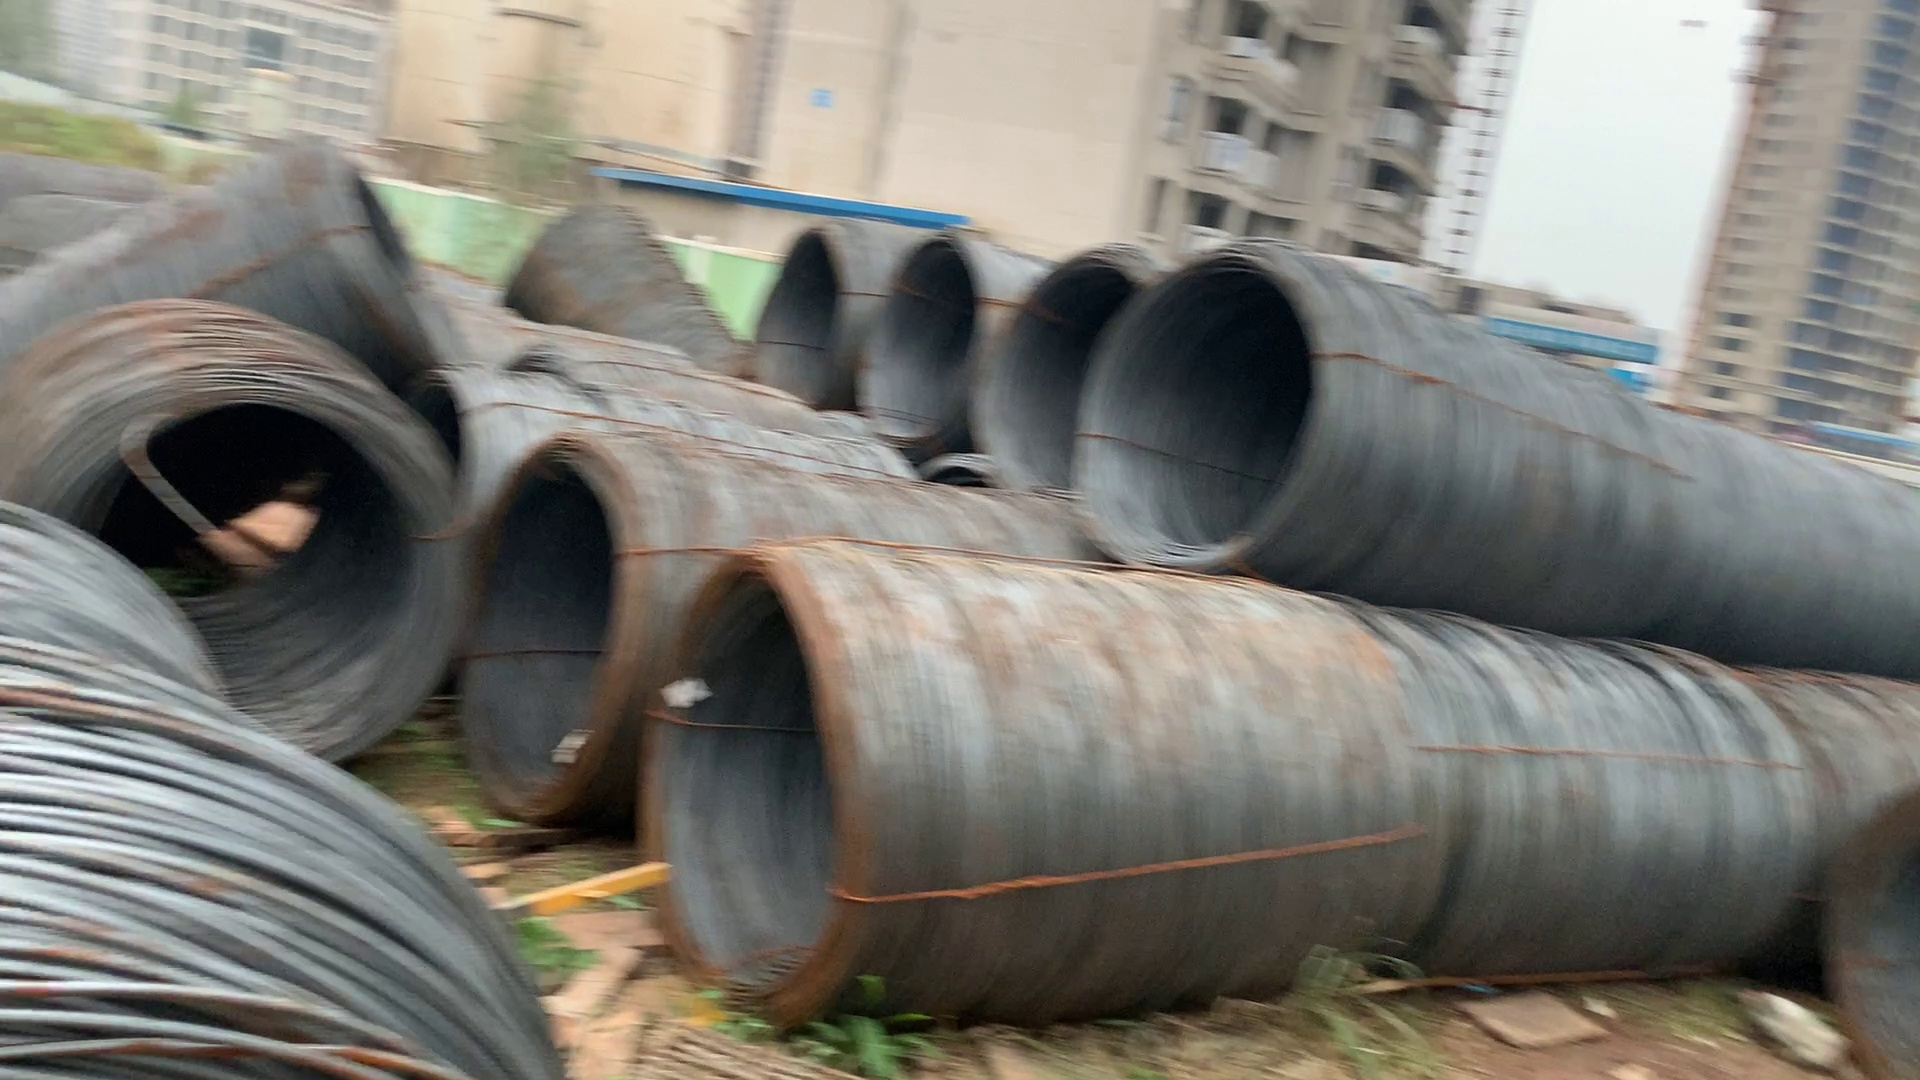coil: (36, 375, 485, 767), (644, 554, 862, 1004), (1083, 249, 1324, 554), (463, 454, 644, 814), (315, 132, 483, 407), (1007, 243, 1146, 502), (868, 227, 988, 447), (740, 222, 860, 415)
